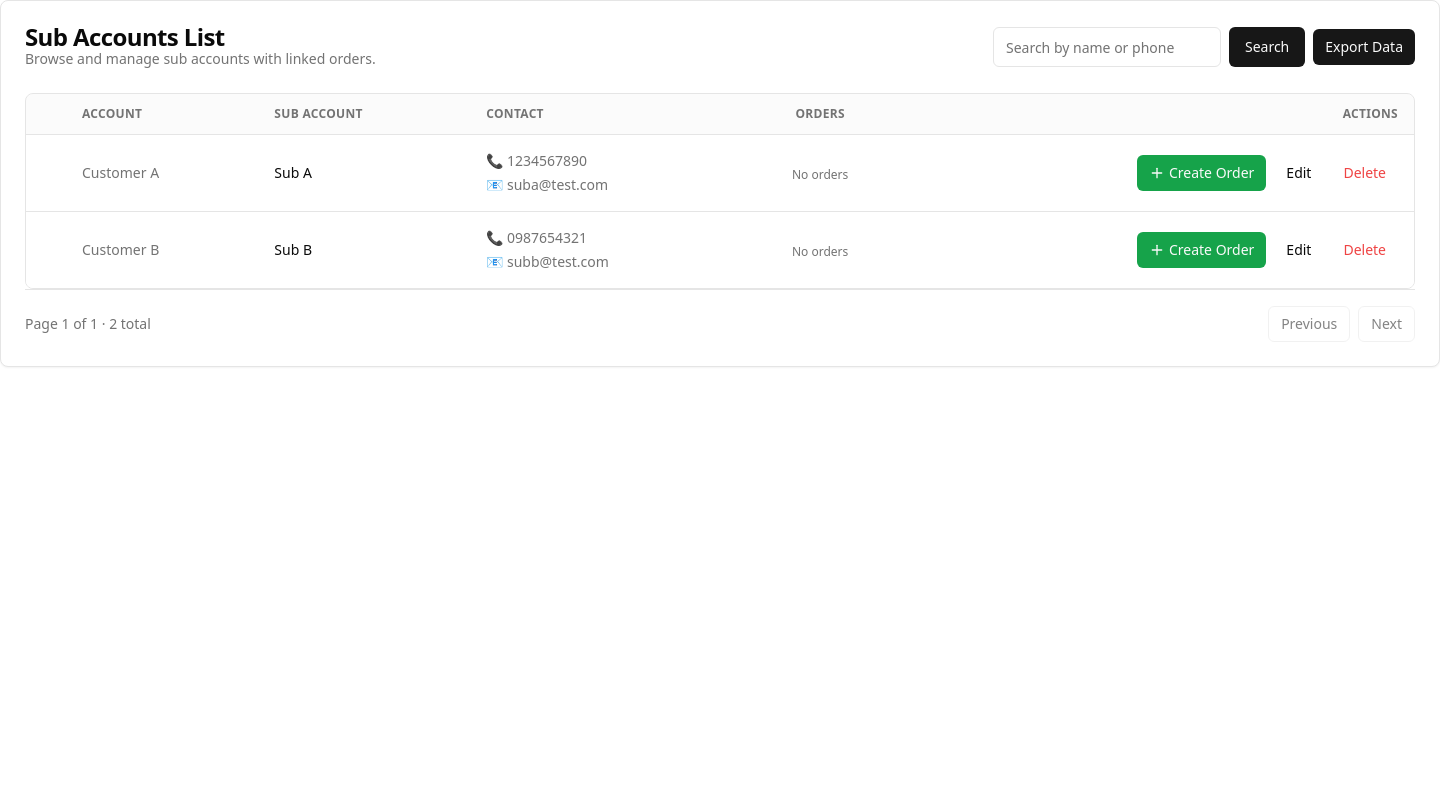
SubAccountsList › Edit Functionality › closes edit dialog on Cancel
Expected: the text "Sub A" is shown, x1=258 y1=134 x2=470 y2=212
Click the button "Edit" in the row of "Customer A" at (1299, 173), box x1=1274 y1=155 x2=1324 y2=191
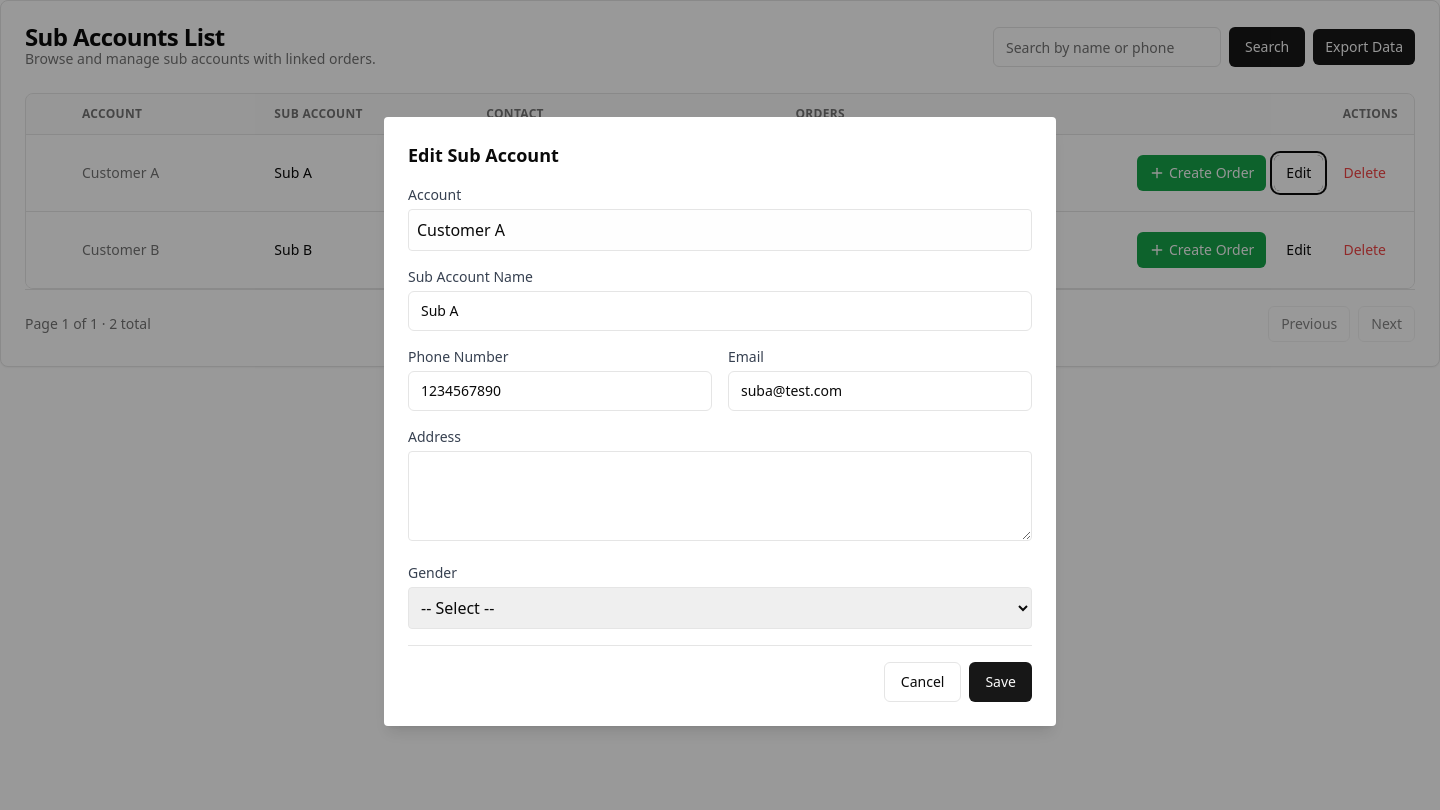
Expected: the heading "Edit Sub Account" is shown, x1=408 y1=142 x2=559 y2=166
Click the button "Cancel" at (923, 682), box x1=884 y1=662 x2=961 y2=702
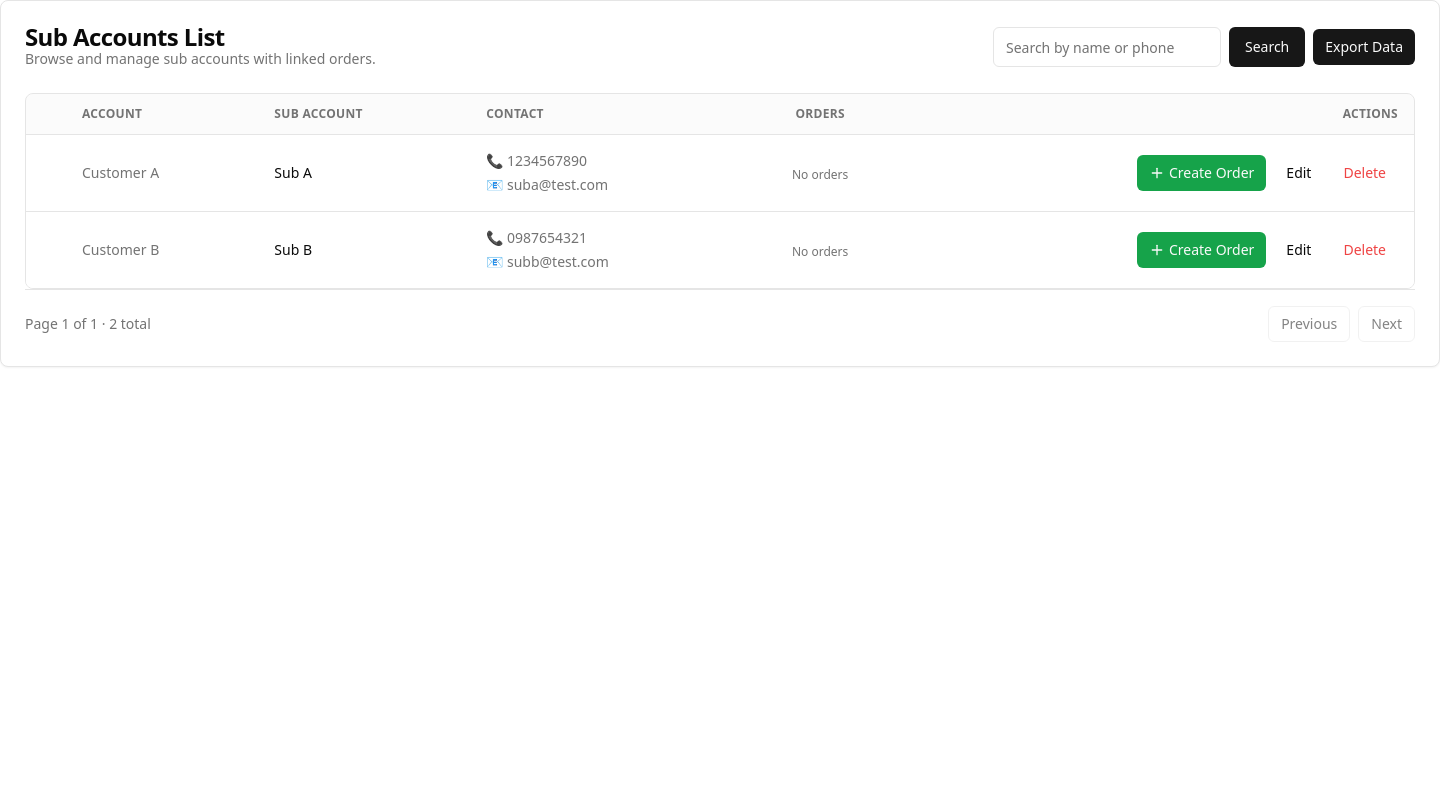
Expected: the heading "Edit Sub Account" is gone
